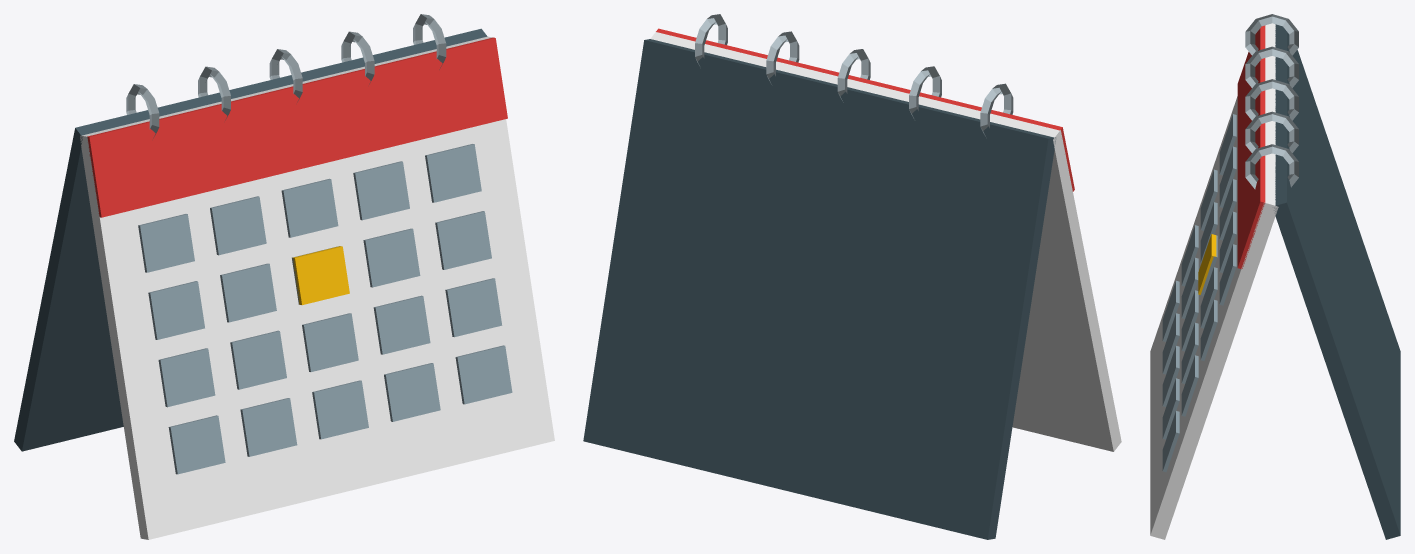
File: kalender.glb
3 renders of one model, left to right at view 1: azimuth 30°, elevation 25°; view 2: azimuth 150°, elevation 25°; view 3: azimuth 270°, elevation 25°, orthographic. The views are drawn at different scales.
Visible parts, largest first — view 1: kalender; view 2: kalender; view 3: kalender.
Part boxes in pixels (x1,y1,x2,y2): kalender: (14,14,554,539); kalender: (583,14,1121,539); kalender: (1150,14,1400,539).
Bounding box in the file's own units: 0.34 × 0.3171 × 0.1951.
